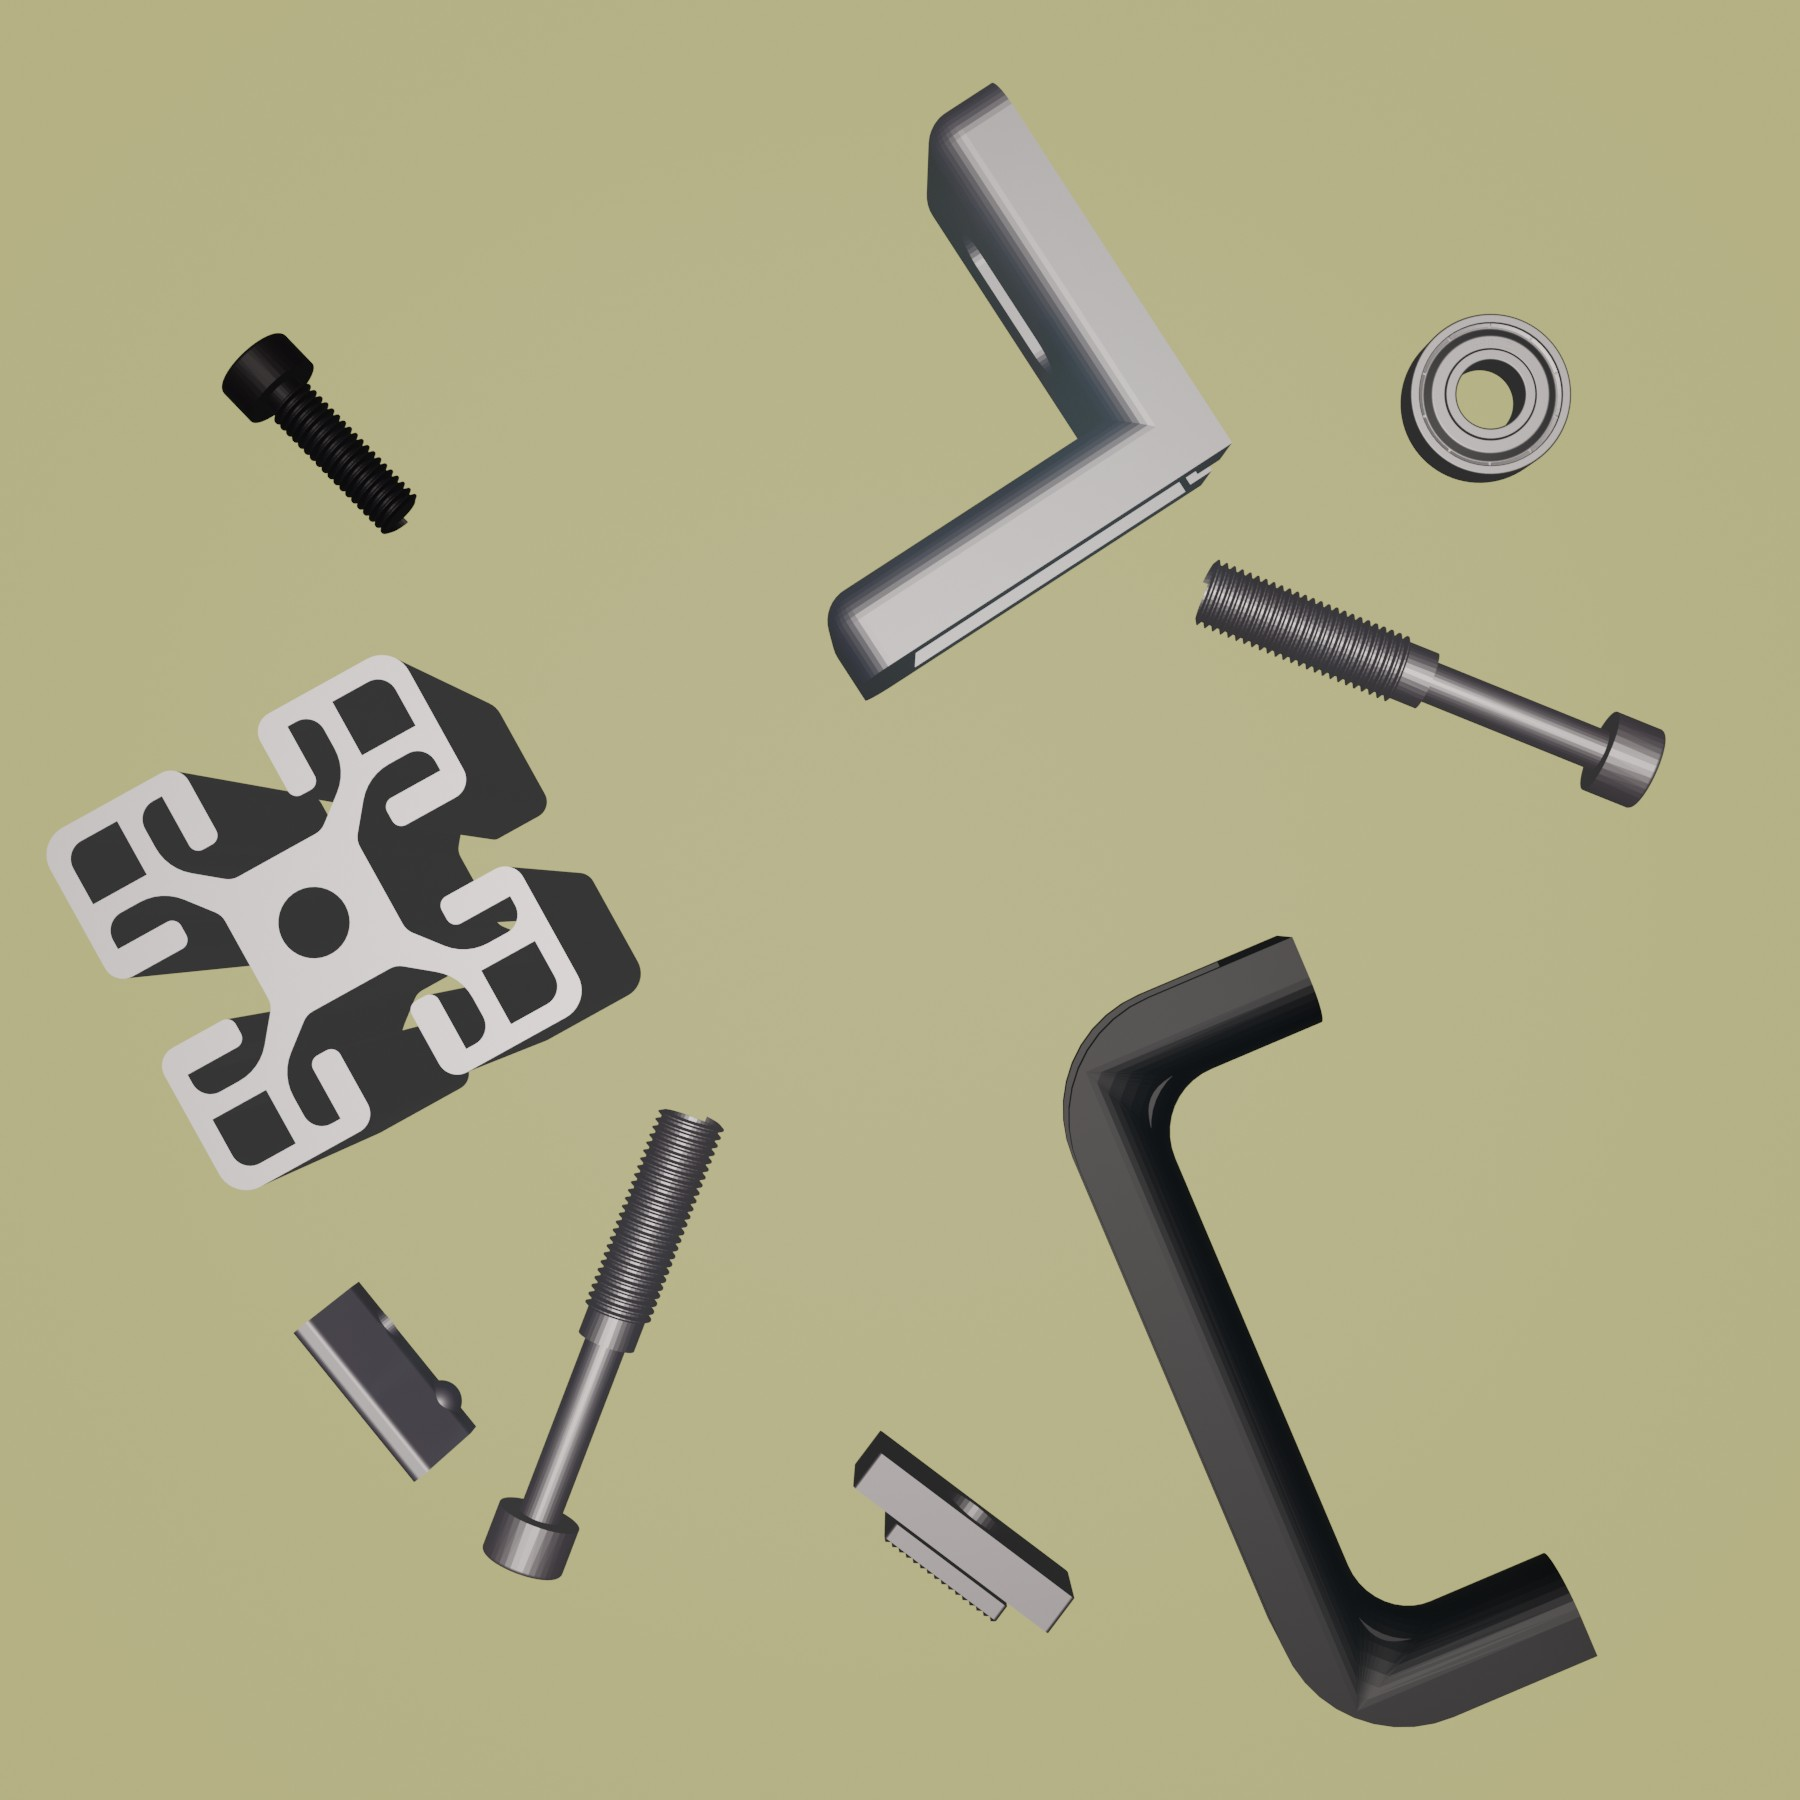Aluminium Extension: (46, 654, 641, 1197)
Ball Bearing: (1398, 308, 1576, 486)
Multiwinkel: (824, 77, 1238, 702)
Pull Handle: (1062, 931, 1597, 1727)
Shoulder Socket Head Cap Screw: (1190, 559, 1666, 809), (481, 1104, 724, 1584)
Socket Head Cap Screw: (216, 330, 419, 539)
T Nut Square: (851, 1427, 1076, 1637)
T Spring Nut: (290, 1277, 476, 1484)
